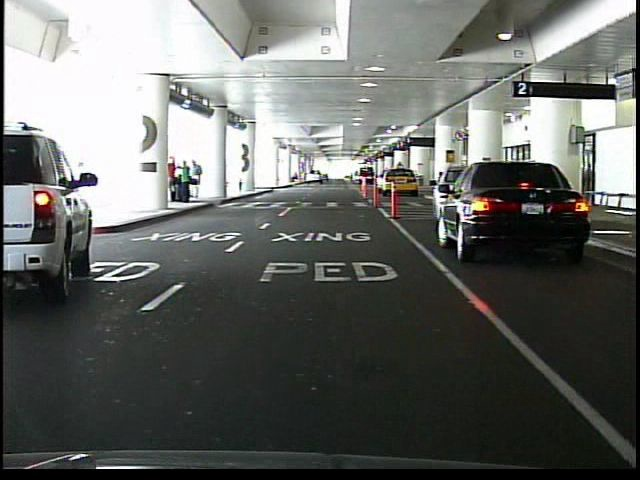person: (178, 160, 192, 204), (167, 155, 178, 204), (191, 159, 204, 200)
